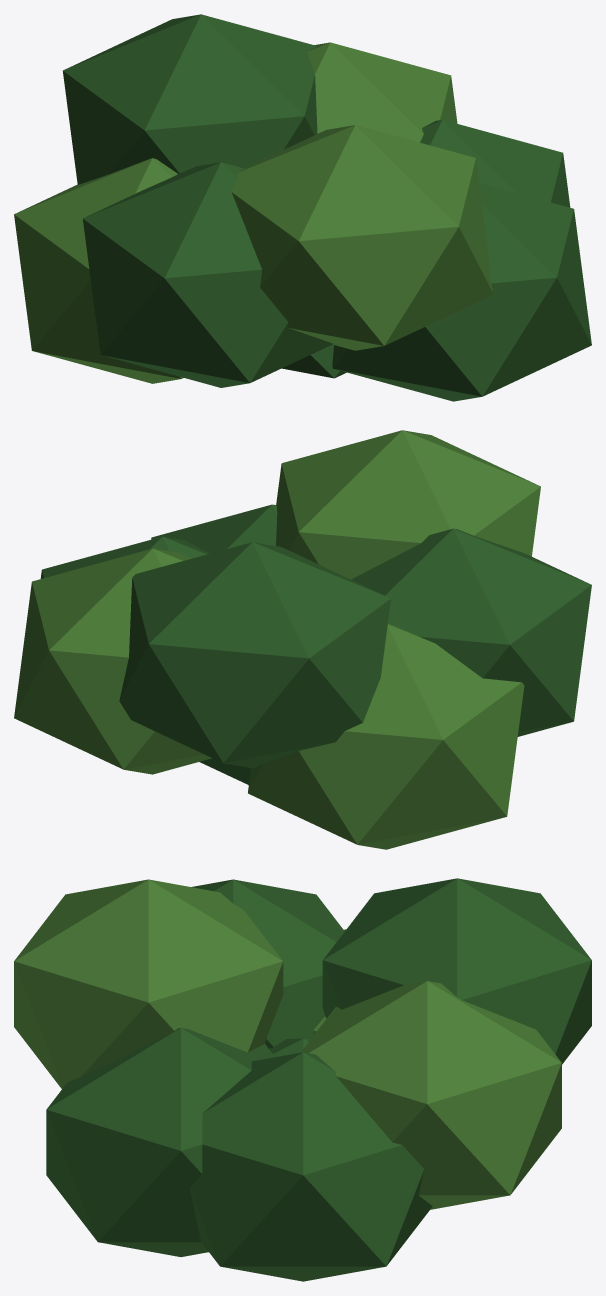
The model's file is NAT_Bush.fbx.
3 renders of one model, top to bottom at view 1: azimuth 30°, elevation 25°; view 2: azimuth 150°, elevation 25°; view 3: azimuth 270°, elevation 25°, orthographic.
Parts seen in each view (by area): view 1: NAT_Bush__BODY; view 2: NAT_Bush__BODY; view 3: NAT_Bush__BODY.
Part boxes in pixels (bbox=[...]): NAT_Bush__BODY: bbox=[14, 14, 591, 401]; NAT_Bush__BODY: bbox=[14, 430, 591, 849]; NAT_Bush__BODY: bbox=[14, 878, 591, 1281].
Size of the model in its own units: 1.85 by 1.12 by 1.83.
